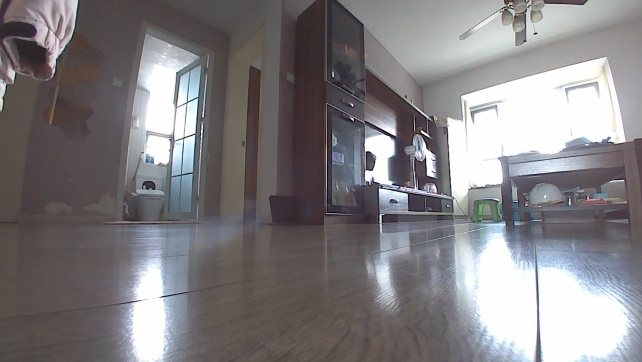TV_stand: (363, 181, 455, 225)
blanket: (98, 217, 206, 226)
door_anno: (163, 50, 215, 221)
tea_table: (490, 140, 641, 230)
